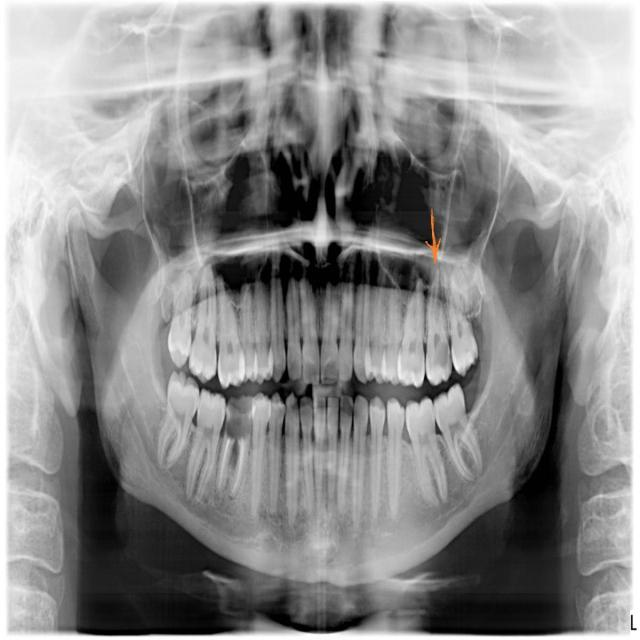Caries: (216, 390, 255, 506), (423, 276, 453, 384), (336, 394, 353, 510)
